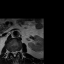CCS_normal: (13, 48, 15, 58)
LFS_stenosis: (17, 48, 19, 54)
LLS_normal: (15, 48, 17, 55)
RFS_stenosis: (9, 48, 11, 55)
RLS_normal: (11, 49, 13, 55)
